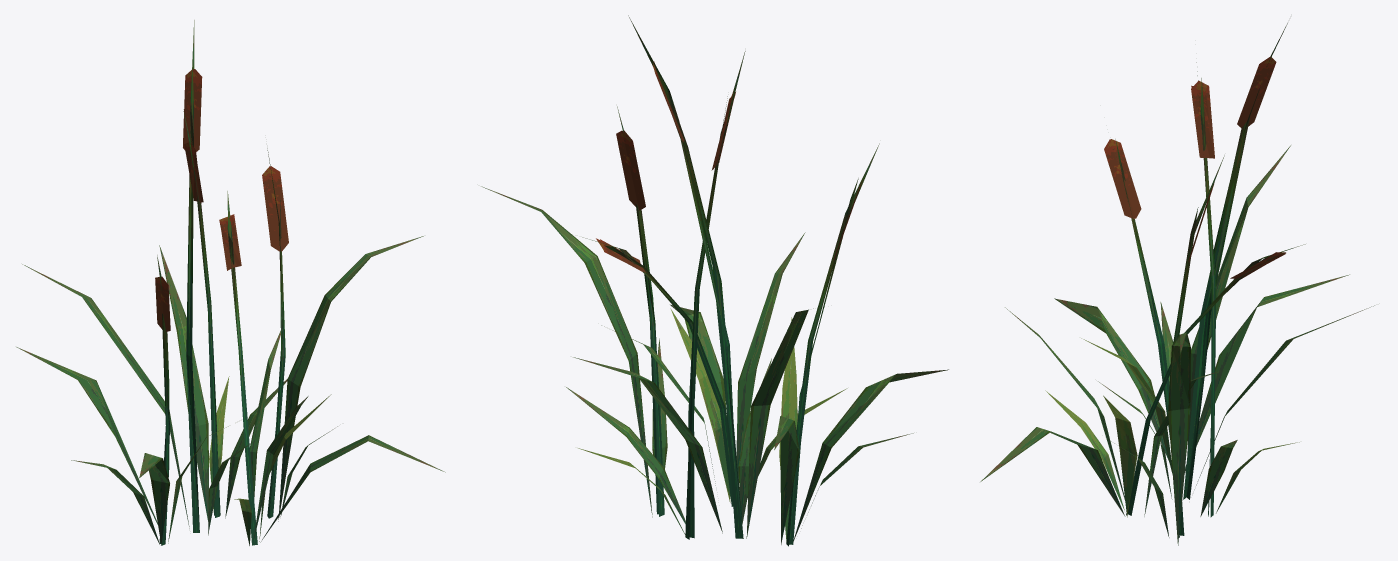
The model's file is gi-Flower_Common_C_01.glb.
3 views of the same model, side by side, from view 1: azimuth 30°, elevation 25°; view 2: azimuth 150°, elevation 25°; view 3: azimuth 270°, elevation 25° (orthographic). The views are drawn at different scales.
Visible parts, largest first — view 1: gi-Flower_Common_C_01; view 2: gi-Flower_Common_C_01; view 3: gi-Flower_Common_C_01.
Part boxes in pixels (box(x1,y1,x2,y2)): gi-Flower_Common_C_01: box(16, 20, 445, 545); gi-Flower_Common_C_01: box(481, 15, 948, 546); gi-Flower_Common_C_01: box(980, 23, 1374, 545).
Size of the model in its own units: 1.21 by 1.5 by 1.07.
1 material, 1 textured.
